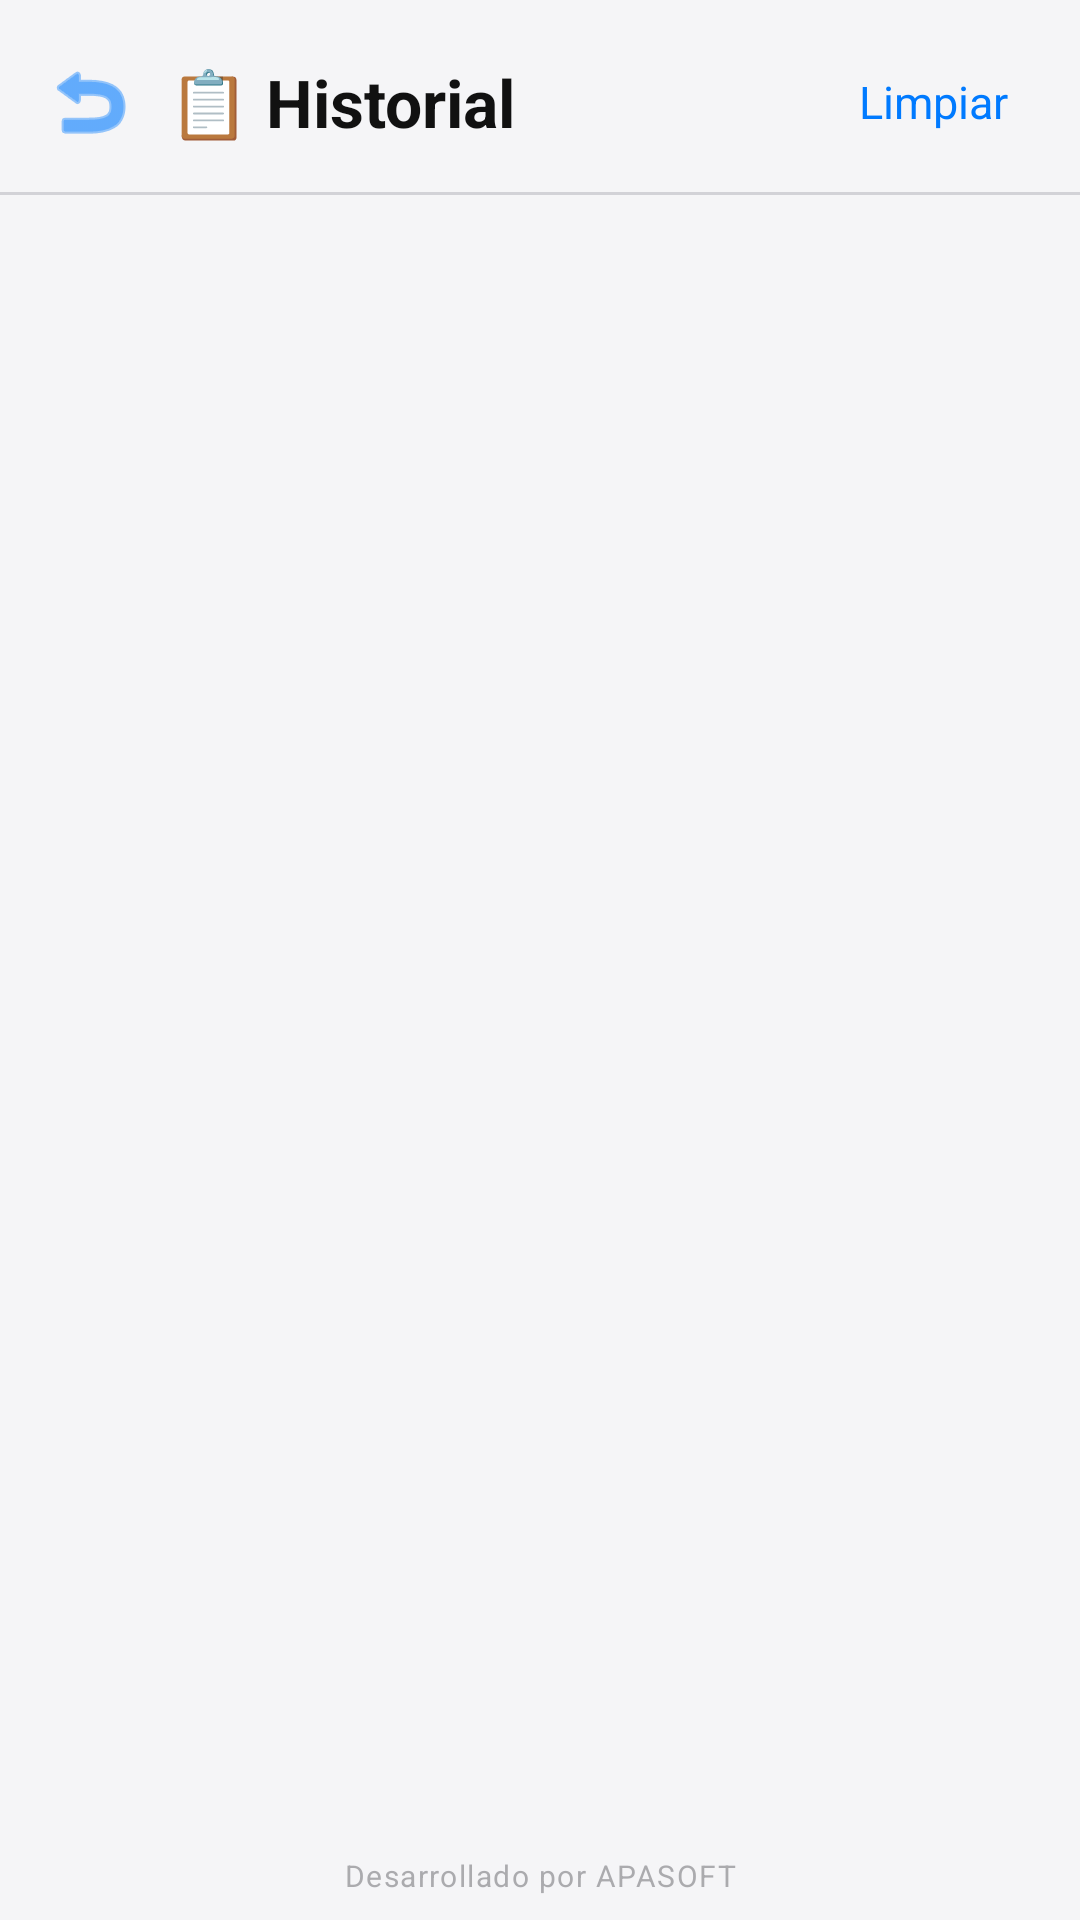

Where icons sit on this 1080 × 1920 app screen, as Rect(x1, y1, x2, y2):
Volver: Rect(57, 71, 126, 134)
